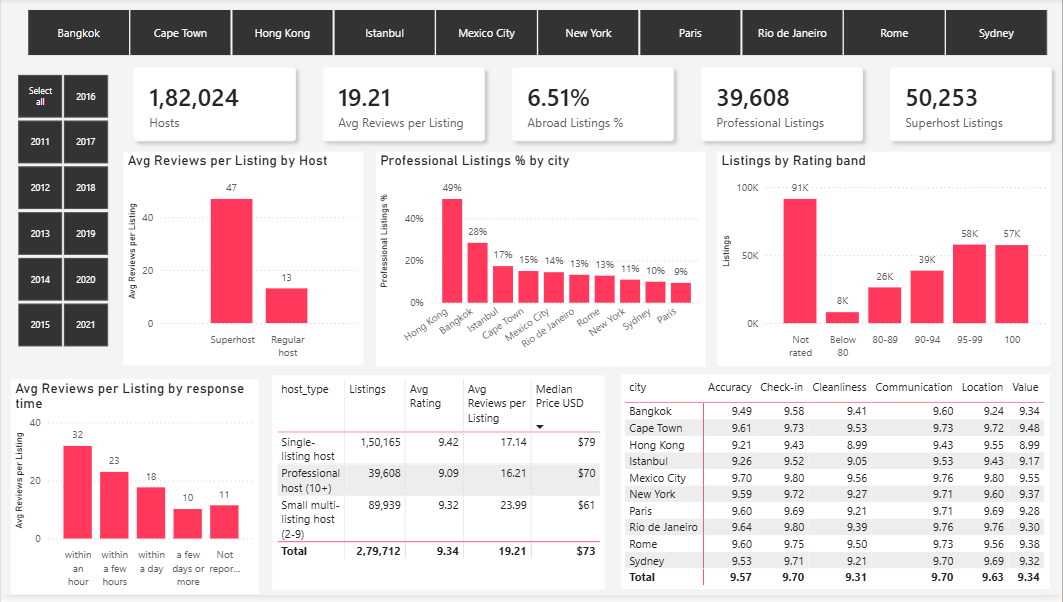

What the dashboard file says about the page in this screenshot:
{"tool":"powerbi","page":{"name":"4. Hosts & quality","canvas":[1280,720],"ordinal":3},"visuals":[{"type":"slicer","fields":{"Values":["dim_city.city"]},"box":[12.1,12.1,1268.2,58.8],"z":0},{"type":"cardVisual","fields":{"Data":["_Measures.Hosts","_Measures.Avg Reviews per Listing","_Measures.Abroad Listings %","_Measures.Professional Listings","_Measures.Superhost Listings"]},"box":[147.8,70.9,1132.5,114.6],"z":1000},{"type":"columnChart","fields":{"Category":["dim_city.city"],"Y":["_Measures.Professional Listings %"]},"box":[452.4,185.5,397.8,259.3],"z":2000},{"type":"columnChart","title":"Avg Reviews per Listing by Host","fields":{"Category":["dim_host.superhost_label"],"Y":["_Measures.Avg Reviews per Listing"]},"box":[147.8,185.5,289.5,257.9],"z":3000},{"type":"columnChart","title":"Avg Reviews per Listing by response time","fields":{"Category":["dim_host.response_time"],"Y":["_Measures.Avg Reviews per Listing"]},"box":[12.1,459.9,298.6,259.4],"z":4000},{"type":"columnChart","title":"Listings by Rating band","fields":{"Category":["dim_listing.rating_band"],"Y":["_Measures.Listings"]},"box":[863.6,185.1,402,258],"z":5000},{"type":"tableEx","fields":{"Values":["dim_host.host_type","_Measures.Listings","_Measures.Avg Rating","_Measures.Avg Reviews per Listing","_Measures.Median Price USD"]},"box":[327.3,455.7,401.6,258.1],"z":6000},{"type":"pivotTable","fields":{"Columns":["Aspects.Aspect"],"Rows":["dim_city.city"],"Values":["_Measures.Avg Sub-score"]},"box":[747.8,454.4,517.4,259.3],"z":7000},{"type":"slicer","fields":{"Values":["dim_host.host_since_year"]},"box":[0,90.5,147.8,331.8],"z":8000}]}

Visuals, with their boxes in screenshot pixels (x1, y1, x2, y2), scaled from the page's 1280x720 canvas onto the 1063x602 screenshot:
slicer - dim_city.city: <box>10,10,1062,59</box>
cardVisual - _Measures.Hosts x _Measures.Avg Reviews per Listing: <box>123,59,1062,155</box>
columnChart - dim_city.city x _Measures.Professional Listings %: <box>376,155,706,372</box>
"Avg Reviews per Listing by Host" columnChart: <box>123,155,363,371</box>
"Avg Reviews per Listing by response time" columnChart: <box>10,385,258,601</box>
"Listings by Rating band" columnChart: <box>717,155,1051,370</box>
tableEx - dim_host.host_type x _Measures.Listings: <box>272,381,605,597</box>
pivotTable - Aspects.Aspect x dim_city.city: <box>621,380,1051,597</box>
slicer - dim_host.host_since_year: <box>0,76,123,353</box>
